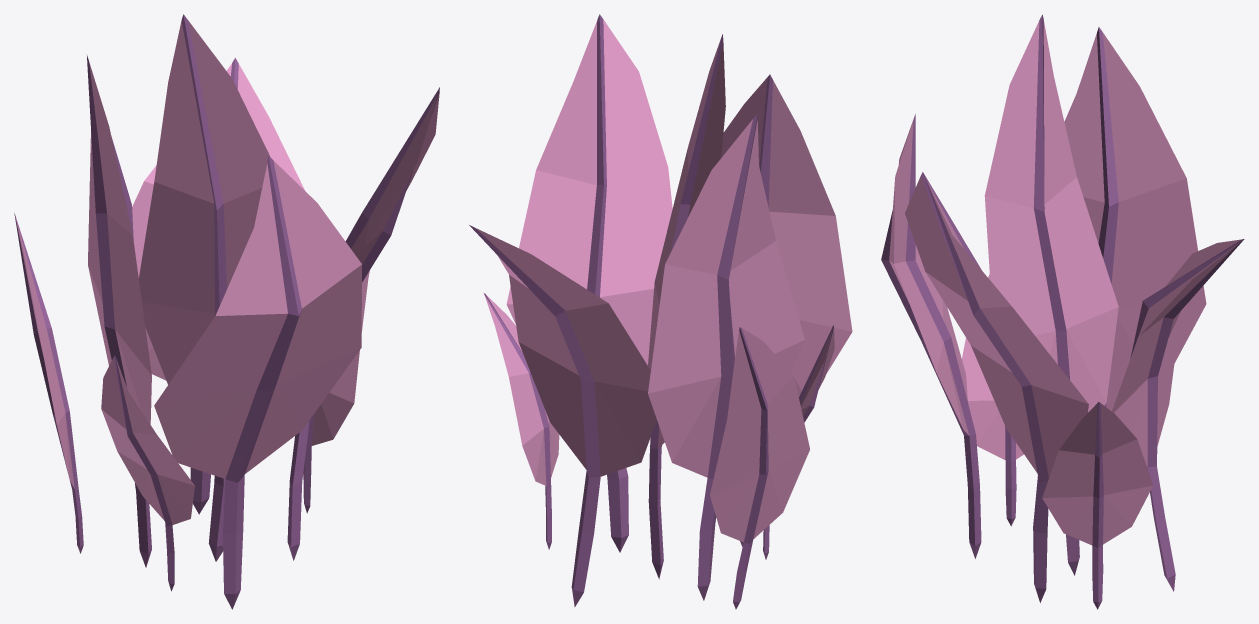
File: Gras_03_Var_05.fbx
The picture shows the model from 3 angles, left to right: view 1: azimuth 30°, elevation 25°; view 2: azimuth 150°, elevation 25°; view 3: azimuth 270°, elevation 25°; orthographic projection. The views are drawn at different scales.
Visible parts, largest first — view 1: Gras_03_Var_05; view 2: Gras_03_Var_05; view 3: Gras_03_Var_05.
Part boxes in pixels (x1,y1,x2,y2): Gras_03_Var_05: [14, 14, 439, 609]; Gras_03_Var_05: [469, 14, 852, 609]; Gras_03_Var_05: [881, 14, 1244, 609].
Size of the model in its own units: 0.1464 by 0.2396 by 0.1453.
